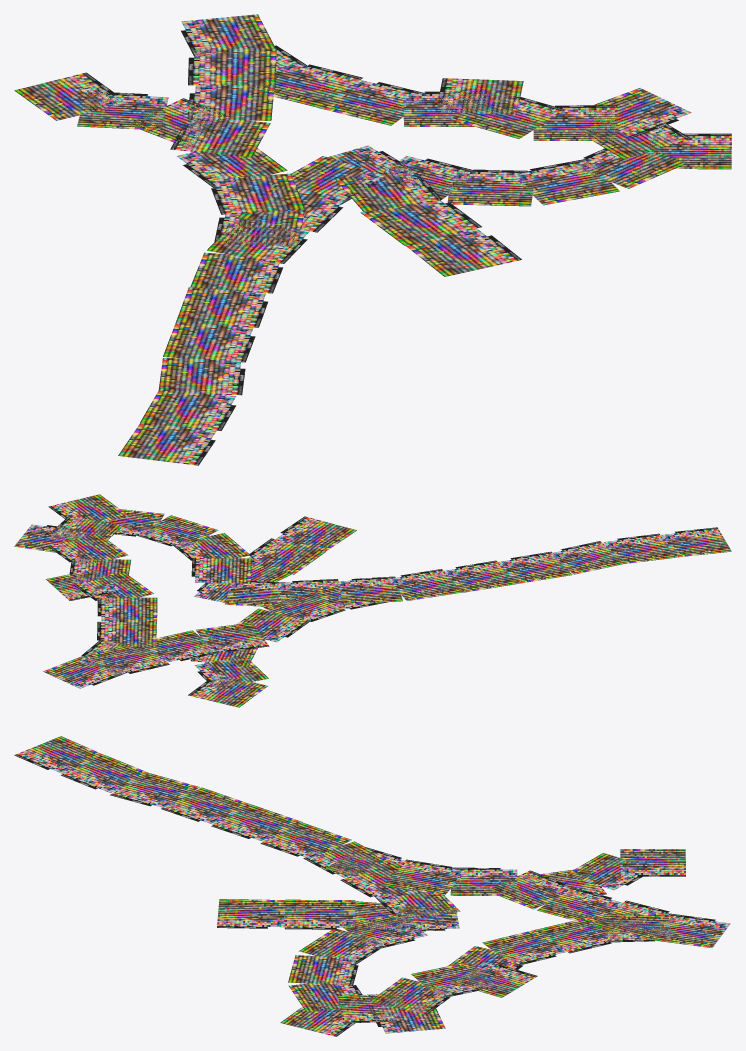
The model's file is Path.fbx.
The picture shows the model from 3 angles, top to bottom: view 1: azimuth 30°, elevation 25°; view 2: azimuth 150°, elevation 25°; view 3: azimuth 270°, elevation 25°; orthographic projection. The views are drawn at different scales.
Visible parts, largest first — view 1: Plane.039, Plane.025, Plane.024, Plane.049, Plane.015, Plane.037, Plane.047, Plane.023, Plane.018, Plane.034, Plane.017, Plane.038 (+24 smaller); view 2: Plane.024, Plane.025, Plane.039, Plane.042, Plane.036, Plane.037, Plane.047, Plane.019, Plane.023, Plane.017, Plane.016, Plane.015 (+25 smaller); view 3: Plane.024, Plane.025, Plane.049, Plane.015, Plane.034, Plane.019, Plane.018, Plane.023, Plane.042, Plane.047, Plane.017, Plane.029 (+25 smaller).
Part boxes in pixels (x1,y1,x2,y2): Plane.039: [188, 48, 276, 85]; Plane.025: [405, 228, 521, 276]; Plane.024: [360, 195, 481, 245]; Plane.049: [211, 173, 304, 214]; Plane.015: [140, 388, 236, 430]; Plane.037: [170, 115, 270, 157]; Plane.047: [14, 72, 123, 120]; Plane.023: [118, 422, 216, 465]; Plane.018: [176, 287, 267, 327]; Plane.034: [512, 159, 619, 205]; Plane.017: [163, 322, 255, 362]; Plane.038: [188, 84, 274, 120]; Plane.024: [244, 538, 325, 574]; Plane.025: [275, 516, 356, 552]; Plane.039: [86, 643, 169, 675]; Plane.042: [97, 597, 157, 622]; Plane.036: [191, 558, 251, 583]; Plane.037: [196, 622, 269, 652]; Plane.047: [188, 674, 267, 707]; Plane.019: [388, 569, 461, 600]; Plane.023: [661, 527, 731, 557]; Plane.017: [497, 551, 572, 583]; Plane.016: [549, 541, 626, 574]; Plane.015: [603, 533, 675, 564]; Plane.024: [284, 899, 355, 929]; Plane.025: [217, 899, 285, 928]; Plane.049: [383, 859, 466, 895]; Plane.015: [61, 755, 152, 792]; Plane.034: [288, 955, 358, 985]; Plane.019: [260, 822, 351, 859]; Plane.018: [211, 805, 302, 841]; Plane.023: [14, 736, 104, 773]; Plane.042: [482, 929, 566, 966]; Plane.047: [620, 849, 685, 876]; Plane.017: [161, 787, 252, 824]; Plane.029: [370, 977, 454, 1014].
Size of the model in its own units: 6986 by 0 by 7045.
